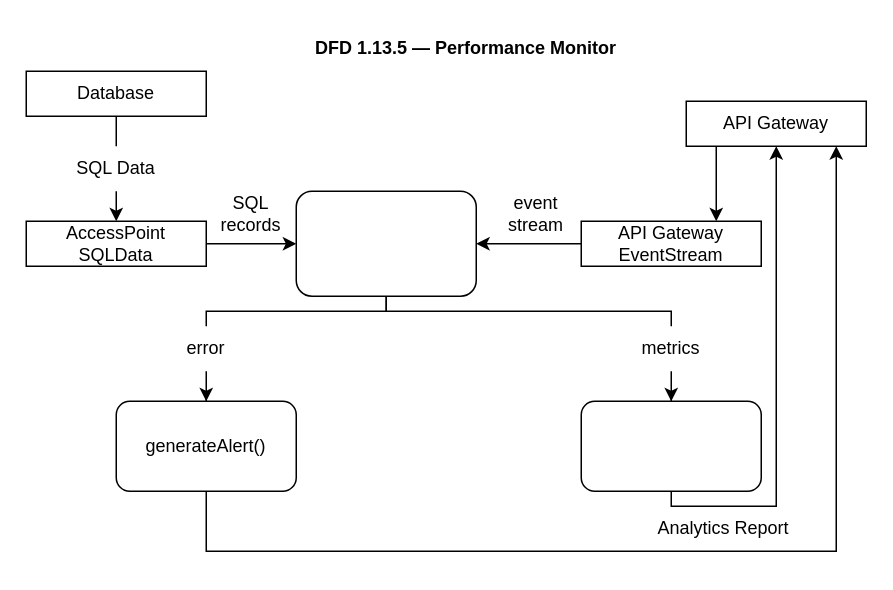
This 893x590 diagram has some shape labels left out. Each missing label, with the box of its shape:
generateReport(): (580, 400, 761, 491)
monitorPerformance(): (295, 190, 476, 296)
